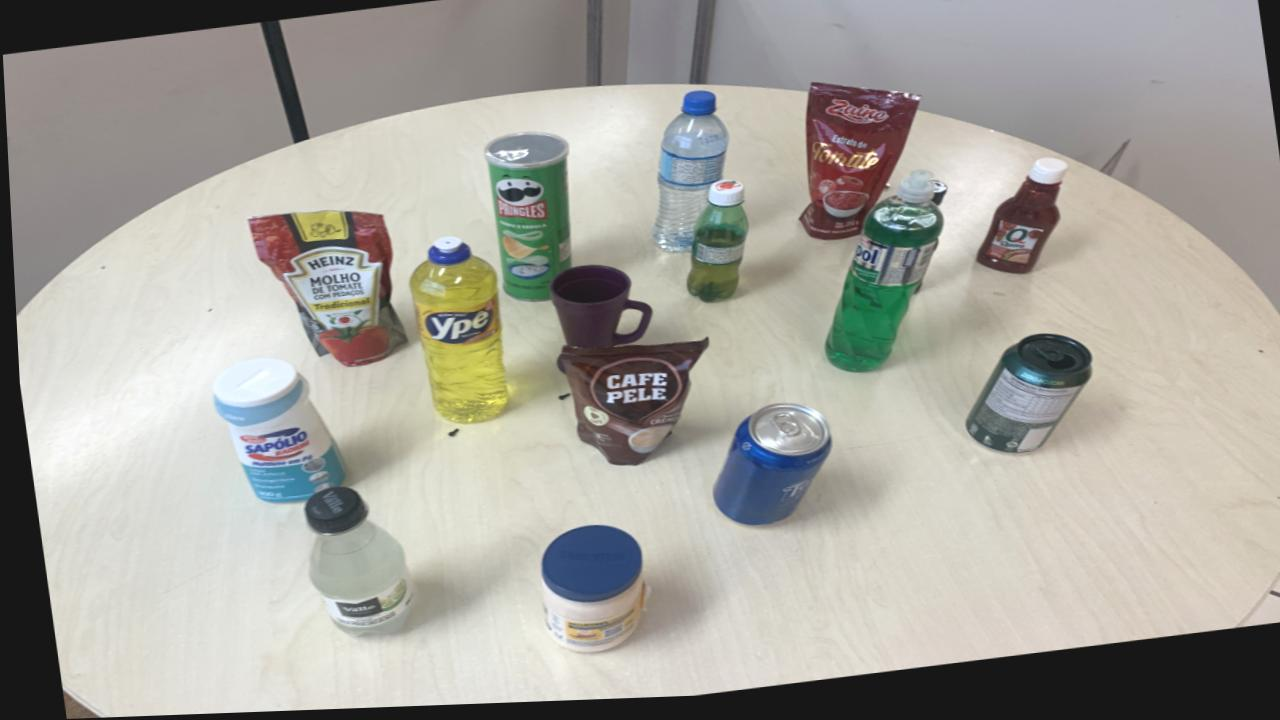Cleaner-Cleanup_Items: (207, 360, 340, 505)
Coffee-Pantry_Items: (554, 343, 704, 471)
Detergent-Cleanup_Items: (820, 178, 941, 379), (406, 240, 504, 427)
English_Sauce-Pantry_Items: (929, 187, 946, 214), (911, 288, 920, 300)
Guarana-Drinks: (683, 185, 745, 307)
Guarana_Can-Drinks: (960, 342, 1088, 462)
Ketchup-Pantry_Items: (972, 165, 1067, 282)
Mayonnaise-Pantry_Items: (534, 530, 642, 657)
Pringles-Snacks: (482, 136, 569, 305)
Soda-Drinks: (298, 488, 409, 638)
Tomato_Sauce-Pantry_Items: (246, 213, 403, 369), (796, 88, 917, 246)
Tonic-Drinks: (707, 409, 827, 531)
Water_Bottle-Drinks: (649, 96, 727, 257)
